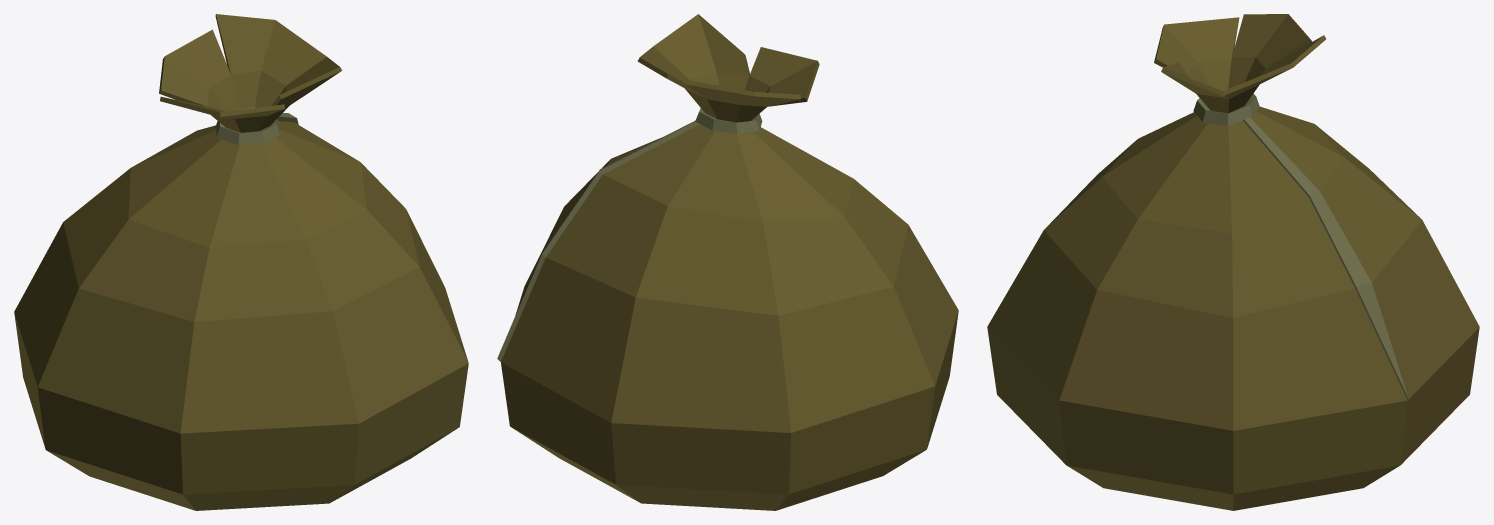
Rendered from Sakwa Asia.fbx.
3 renders of one model, left to right at view 1: azimuth 30°, elevation 25°; view 2: azimuth 150°, elevation 25°; view 3: azimuth 270°, elevation 25°, orthographic. The views are drawn at different scales.
Visible parts, largest first — view 1: Sakwa; view 2: Sakwa; view 3: Sakwa.
Part boxes in pixels (x1,y1,x2,y2): Sakwa: (14,14,468,510); Sakwa: (497,14,958,510); Sakwa: (987,14,1479,510).
Bounding box in the file's own units: 0.3535 × 0.3254 × 0.3535.
